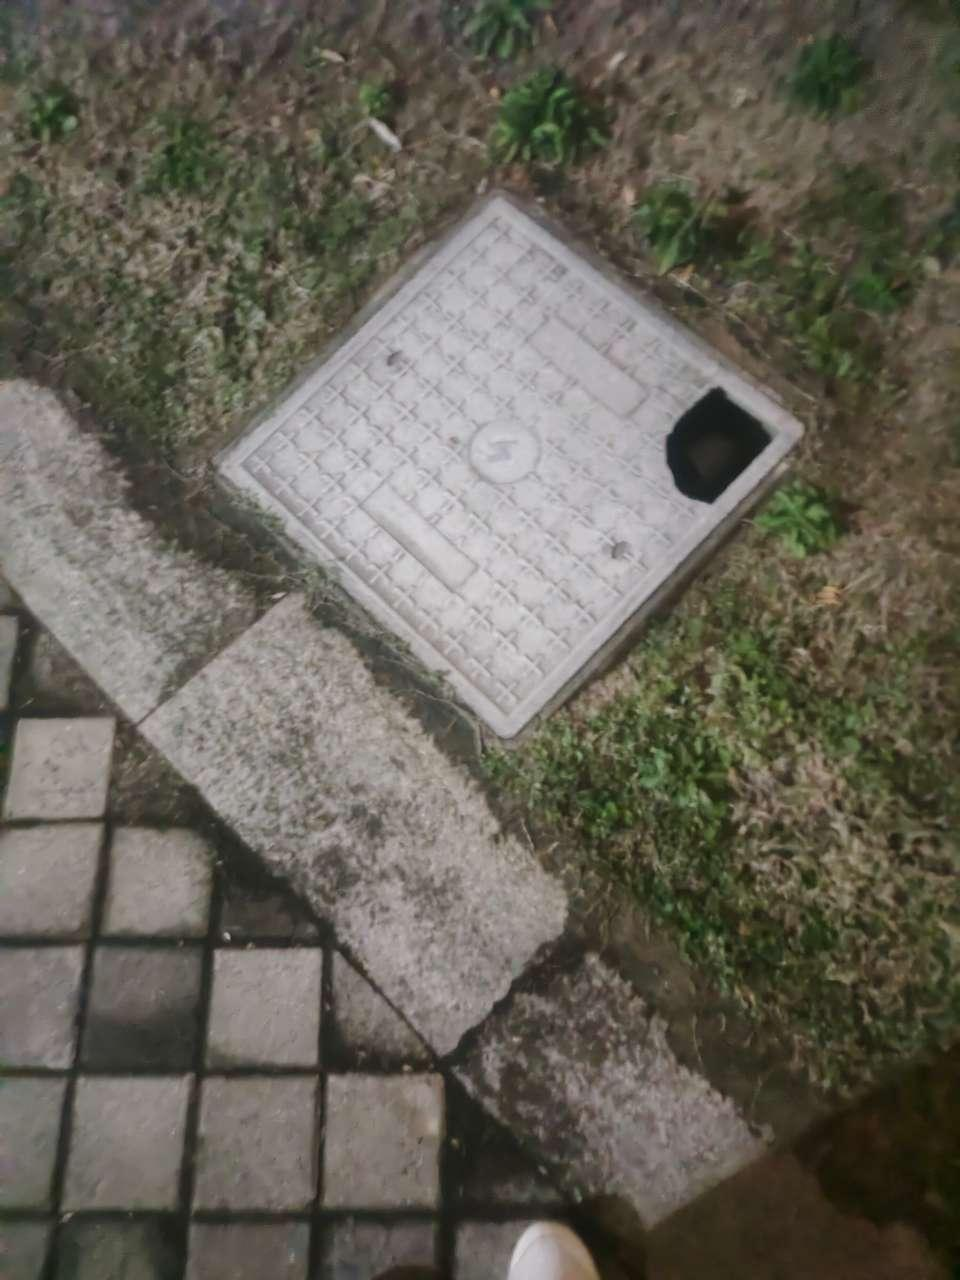wellcover: (201, 166, 817, 752)
